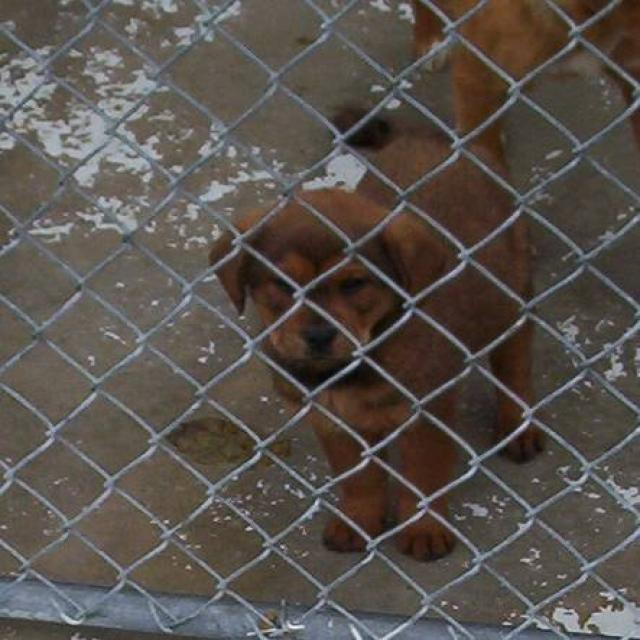dog: (206, 97, 544, 562)
